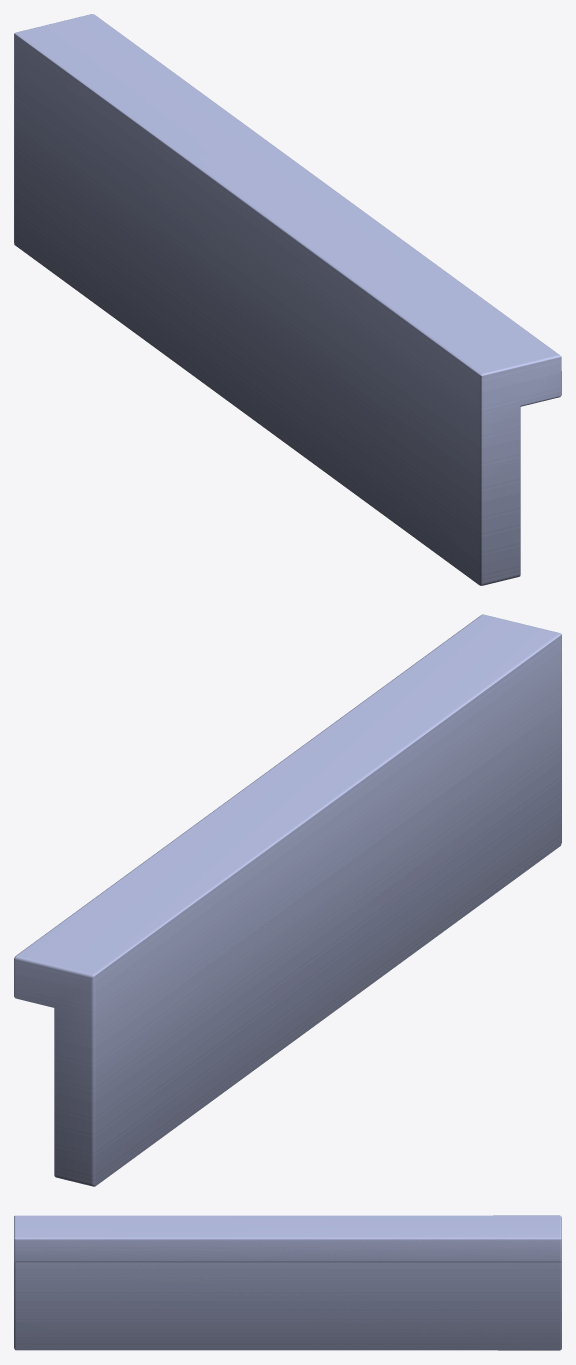
File: border-high.glb
3 renders of one model, top to bottom at view 1: azimuth 30°, elevation 25°; view 2: azimuth 150°, elevation 25°; view 3: azimuth 270°, elevation 25°, orthographic. The views are drawn at different scales.
Visible parts, largest first — view 1: border-high; view 2: border-high; view 3: border-high.
Boxes of the visible parts, x1=… form: border-high: x1=14, y1=14, x2=561, y2=585; border-high: x1=14, y1=614, x2=561, y2=1186; border-high: x1=14, y1=1215, x2=561, y2=1350.
Bounding box in the file's own units: 0.2 × 0.5 × 2.
1 material, 1 textured.
